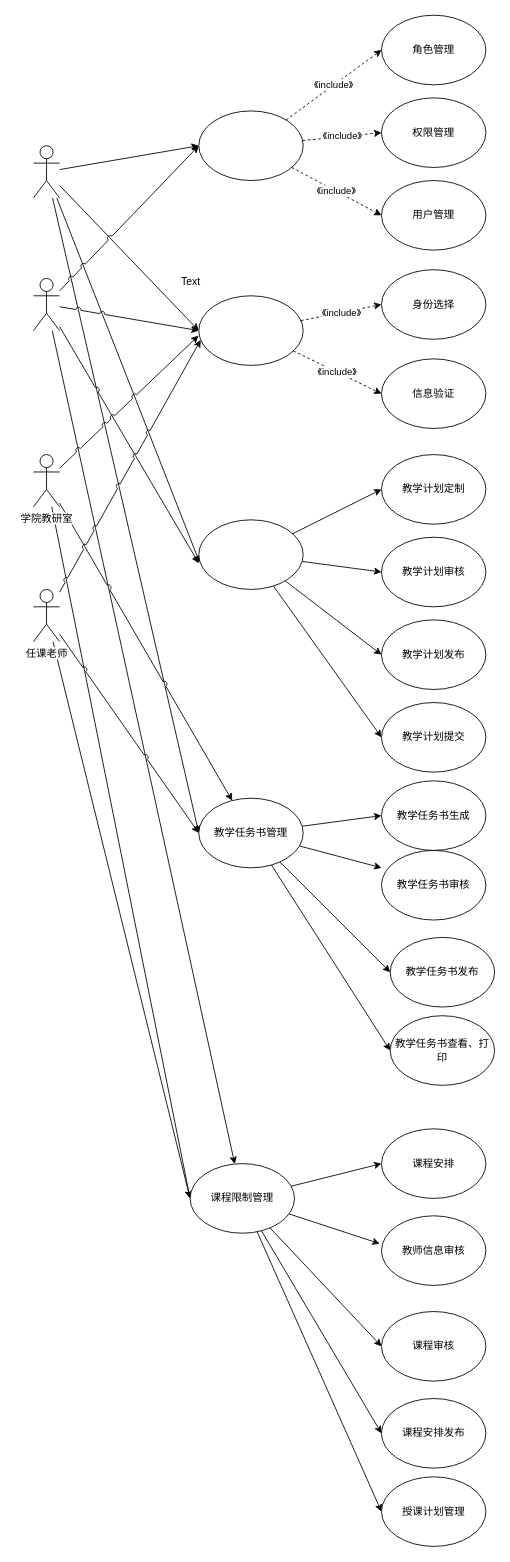
Image size: 510x1562. Some labels were removed from this diagram. The centre of each missing label's shape, as x and y in pixels:
学校教务处: point 46,171
学院教学主管: point 46,304
教学计划管理: point 250,554
用户管系统: point 250,145
登陆系统: point 250,330
